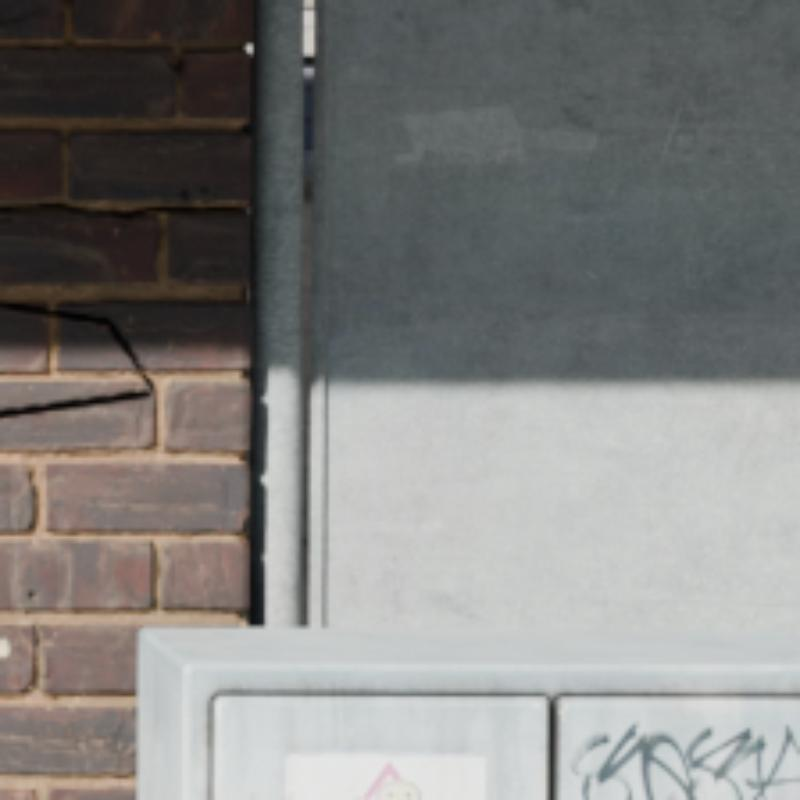crack: (0, 300, 154, 414), (0, 200, 239, 214)
